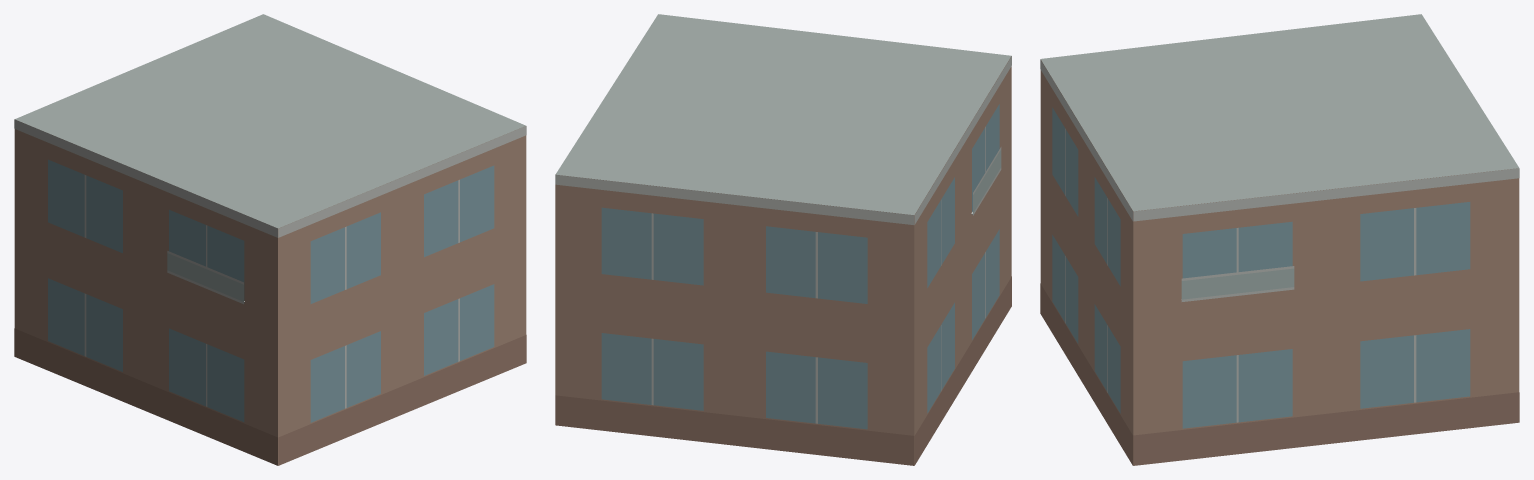
Rendered from survey-upis-32715374.glb.
3 renders of one model, left to right at view 1: azimuth 30°, elevation 25°; view 2: azimuth 150°, elevation 25°; view 3: azimuth 270°, elevation 25°, orthographic. The views are drawn at different scales.
Parts seen in each view (by area): view 1: survey-upis-32715374.tmp; view 2: survey-upis-32715374.tmp; view 3: survey-upis-32715374.tmp.
Part boxes in pixels (<box>): survey-upis-32715374.tmp: <box>14,14,526,465</box>; survey-upis-32715374.tmp: <box>555,14,1011,465</box>; survey-upis-32715374.tmp: <box>1040,14,1519,465</box>.
Bounding box in the file's own units: 10.16 × 6.1 × 10.42.
